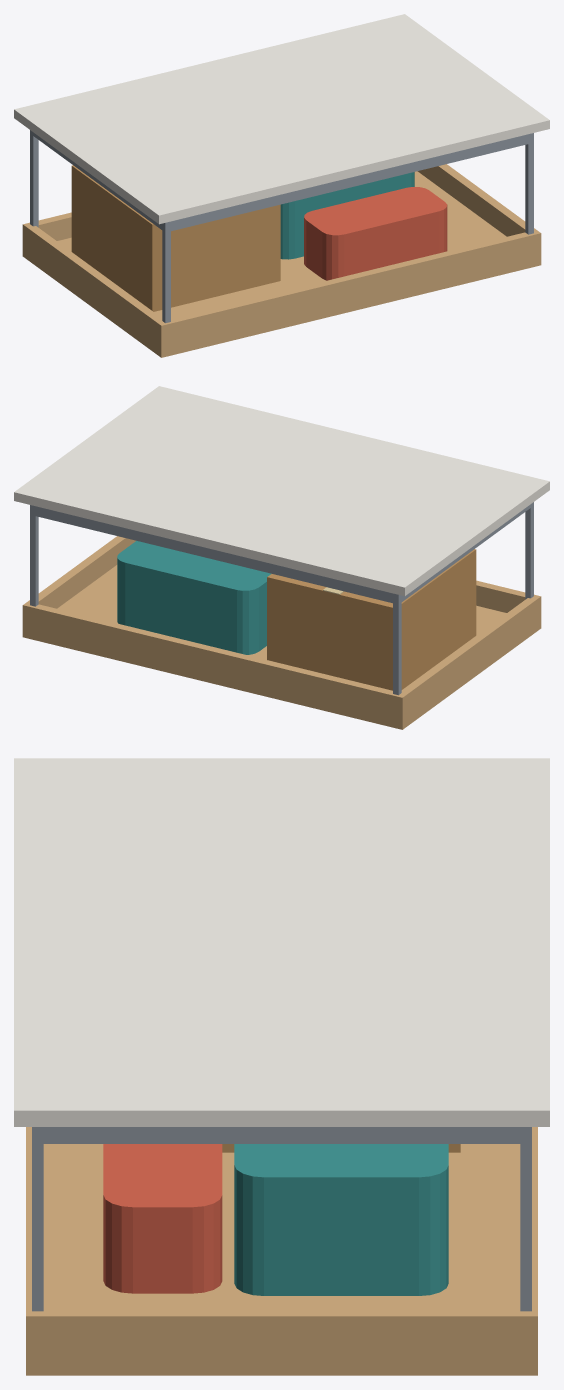
The model's file is ceiling_lift_storage.glb.
3 renders of one model, top to bottom at view 1: azimuth 30°, elevation 25°; view 2: azimuth 150°, elevation 25°; view 3: azimuth 270°, elevation 25°, orthographic. The views are drawn at different scales.
Parts seen in each view (by area): view 1: ceiling_lift_storage_Body; view 2: ceiling_lift_storage_Body; view 3: ceiling_lift_storage_Body.
Part boxes in pixels (left/top/right/bottom): ceiling_lift_storage_Body: left=14, top=14, right=549, bottom=357; ceiling_lift_storage_Body: left=14, top=386, right=549, bottom=729; ceiling_lift_storage_Body: left=14, top=758, right=549, bottom=1375.
Bounding box in the file's own units: 1.4 × 0.5 × 0.9.
